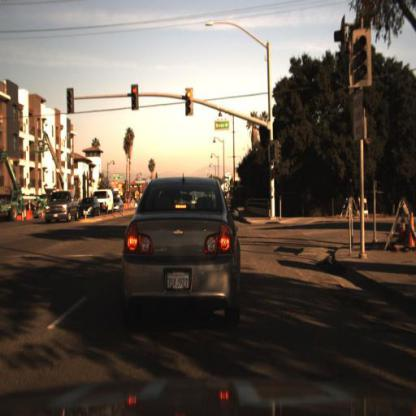car: (117, 174, 246, 341), (44, 192, 81, 221), (75, 197, 103, 219), (102, 189, 116, 218), (113, 199, 124, 217)
trafficLight: (354, 33, 372, 88), (184, 88, 195, 117), (271, 143, 279, 161), (272, 143, 277, 159)
trafficLight-Red: (131, 88, 139, 113)
truck: (97, 188, 115, 219)
